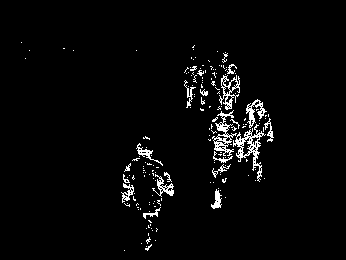person: (122, 137, 174, 253), (207, 102, 242, 217), (241, 98, 276, 185), (218, 51, 245, 116), (184, 45, 201, 110), (200, 56, 216, 113)
